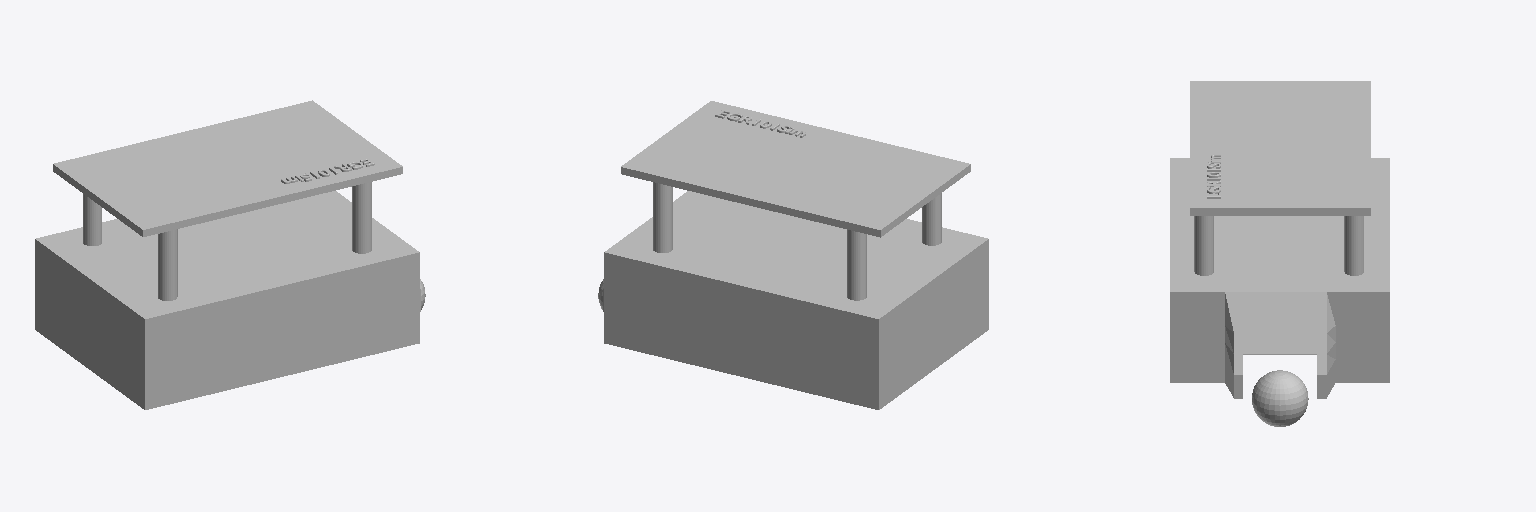
The model's file is frame_and_caster.obj.
The picture shows the model from 3 angles: view 1: azimuth 30°, elevation 25°; view 2: azimuth 150°, elevation 25°; view 3: azimuth 270°, elevation 25°; orthographic projection.
Parts seen in each view (by area): view 1: Cube_Cube.002, Cube.001, Cylinder.002_Cylinder.003, Cylinder.003_Cylinder.004, Cylinder.001_Cylinder.002, Text; view 2: Cube_Cube.002, Cube.001, Cylinder.001_Cylinder.002, Cylinder, Cylinder.003_Cylinder.004, Text; view 3: Cube_Cube.002, Cube.001, Sphere, Cylinder, Cylinder.002_Cylinder.003, Text.
Boxes of the visible parts, <box> form: Cube_Cube.002: <box>35,191,420,409</box>; Cube.001: <box>53,100,402,236</box>; Cylinder.002_Cylinder.003: <box>352,182,371,253</box>; Cylinder.003_Cylinder.004: <box>158,229,177,300</box>; Cylinder.001_Cylinder.002: <box>83,194,101,245</box>; Text: <box>281,158,374,183</box>; Cube_Cube.002: <box>603,191,988,409</box>; Cube.001: <box>621,101,970,237</box>; Cylinder.001_Cylinder.002: <box>847,230,866,300</box>; Cylinder: <box>653,182,672,252</box>; Cylinder.003_Cylinder.004: <box>922,193,941,245</box>; Text: <box>715,110,805,137</box>; Cube_Cube.002: <box>1170,158,1389,398</box>; Cube.001: <box>1190,81,1370,215</box>; Sphere: <box>1252,370,1308,426</box>; Cylinder: <box>1344,216,1363,275</box>; Cylinder.002_Cylinder.003: <box>1194,216,1213,275</box>; Text: <box>1207,154,1220,198</box>.
Bounding box in the file's own units: 10.26 × 5.89 × 5.9.